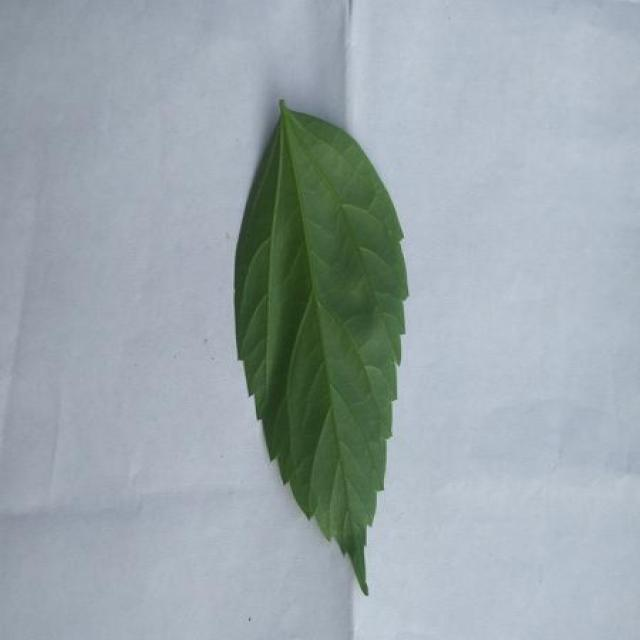Hibiscus: (237, 101, 408, 592)
